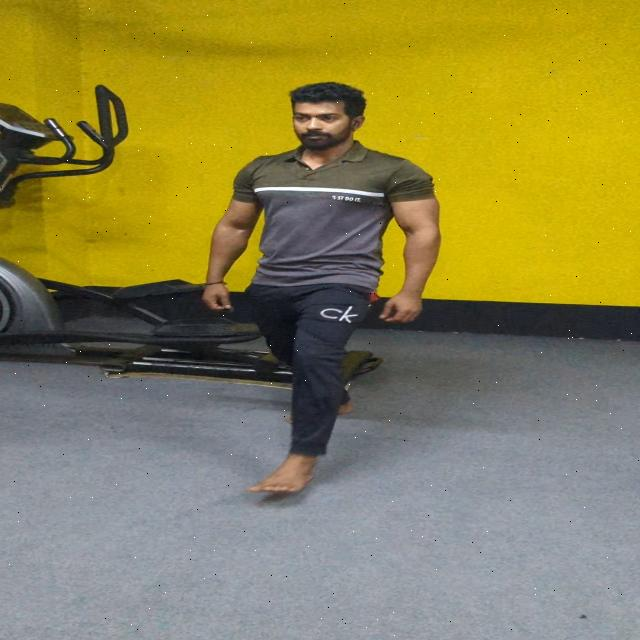Normal_Lunges: (130, 56, 640, 546)
